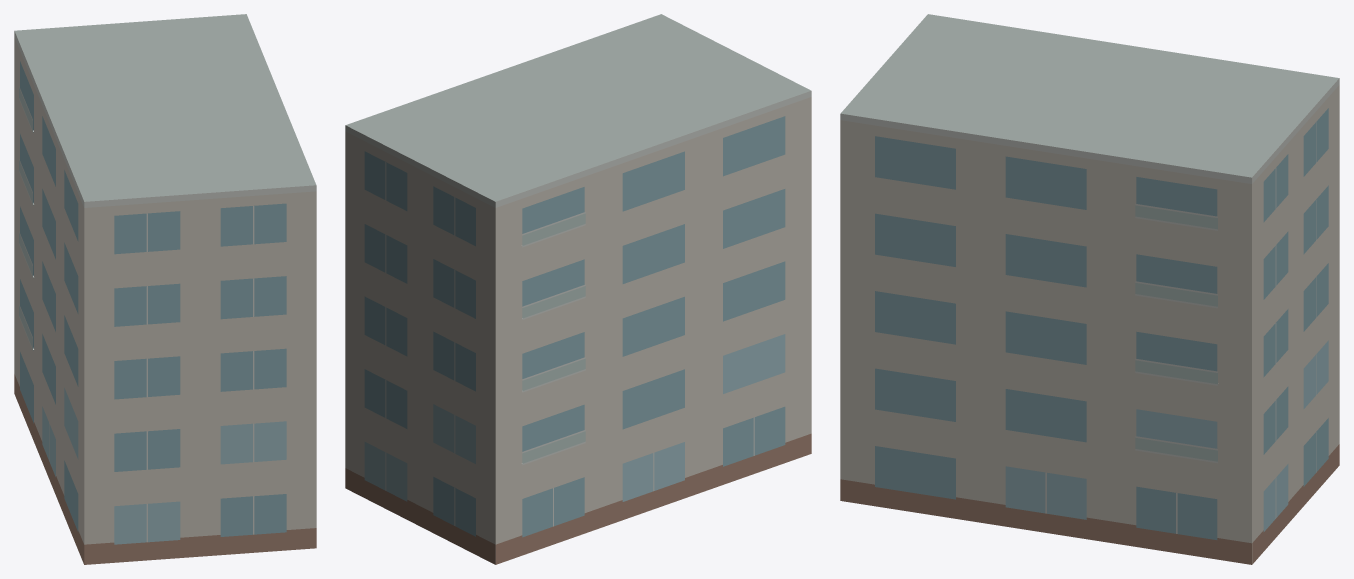
Rendered from survey-upis-32852643.glb.
3 renders of one model, left to right at view 1: azimuth 30°, elevation 25°; view 2: azimuth 150°, elevation 25°; view 3: azimuth 270°, elevation 25°, orthographic. The views are drawn at different scales.
Parts seen in each view (by area): view 1: survey-upis-32852643.tmp; view 2: survey-upis-32852643.tmp; view 3: survey-upis-32852643.tmp.
Part boxes in pixels (x1,y1,x2,y2): survey-upis-32852643.tmp: [14, 14, 316, 564]; survey-upis-32852643.tmp: [345, 14, 811, 564]; survey-upis-32852643.tmp: [840, 14, 1339, 564].
Size of the model in its own units: 13.06 by 14.4 by 16.83.
